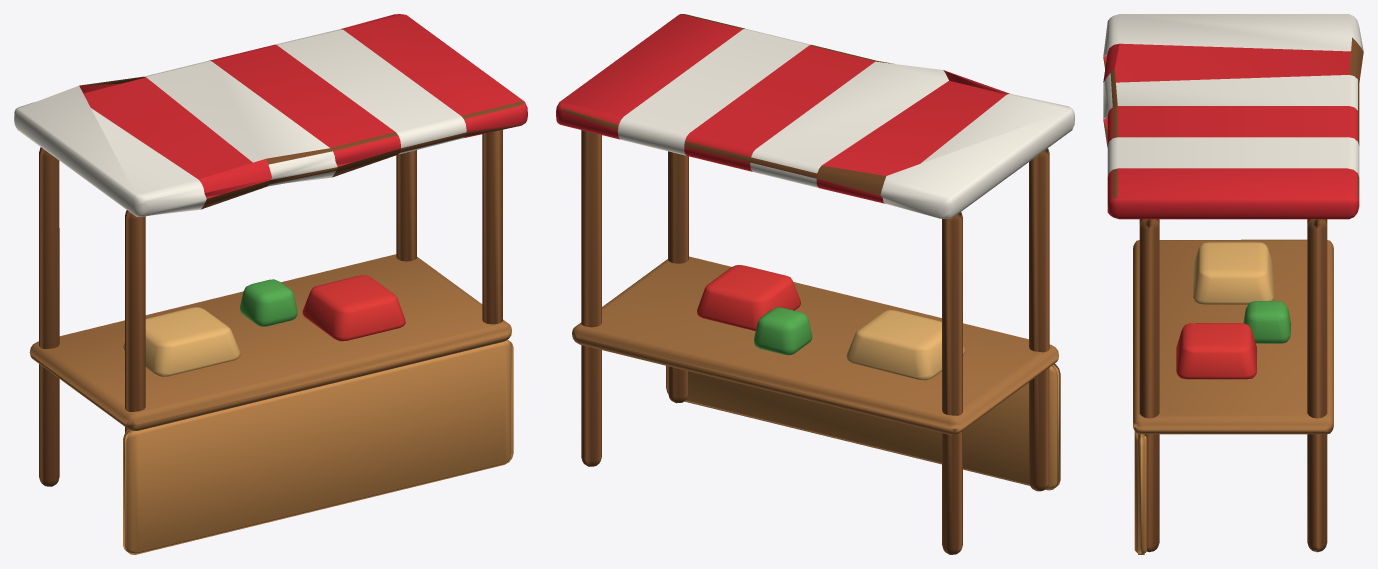
File: stall.glb
3 views of the same model, side by side, from view 1: azimuth 30°, elevation 25°; view 2: azimuth 150°, elevation 25°; view 3: azimuth 270°, elevation 25° (orthographic). The views are drawn at different scales.
Parts seen in each view (by area): view 1: stall; view 2: stall; view 3: stall.
Boxes of the visible parts, box(x1,y1,x2,y2) form: stall: box(14, 14, 527, 554); stall: box(556, 14, 1074, 554); stall: box(1103, 14, 1363, 554).
Bounding box in the file's own units: 2.64 × 2.41 × 1.55.
